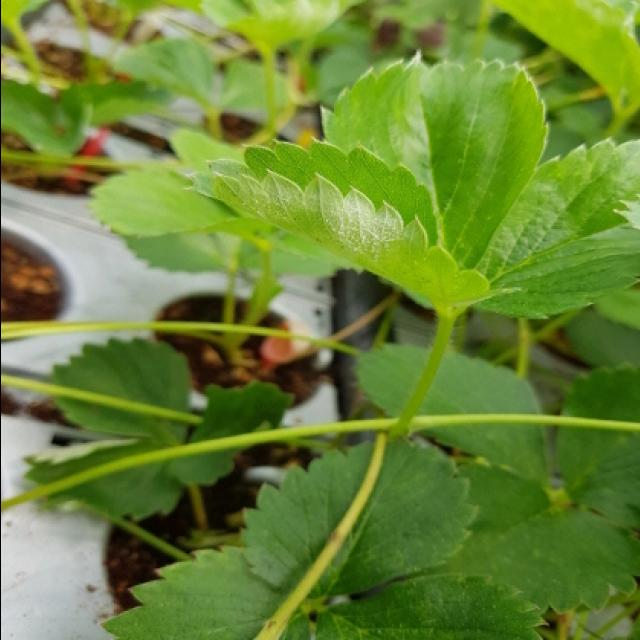Powdery Mildew Leaf: (185, 140, 519, 316)
